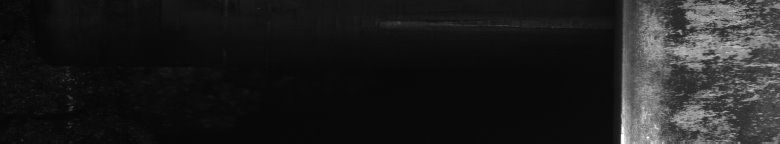kb: (649, 4, 776, 136)
